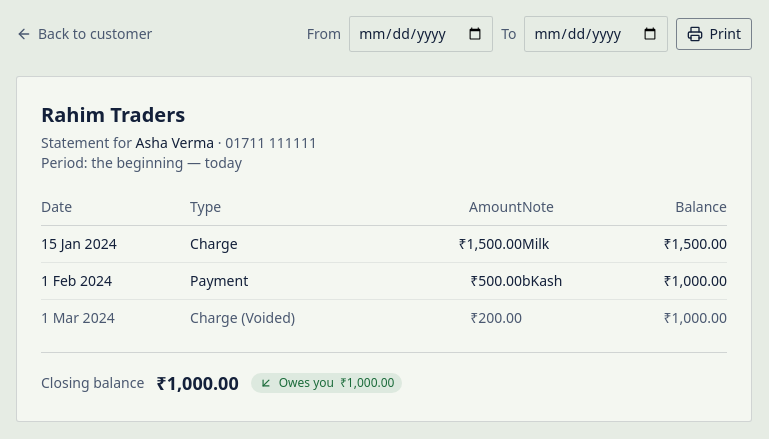
Test: StatementPage (S-39) › says so when the period has no entries, keeping a closing balance
The image size is (769, 439).
expect the heading "Rahim Traders" is shown: met, box [41, 101, 185, 128]
Type "2030-01-01" into the date field labelled "From". click: (421, 34)
box: [349, 16, 493, 52]
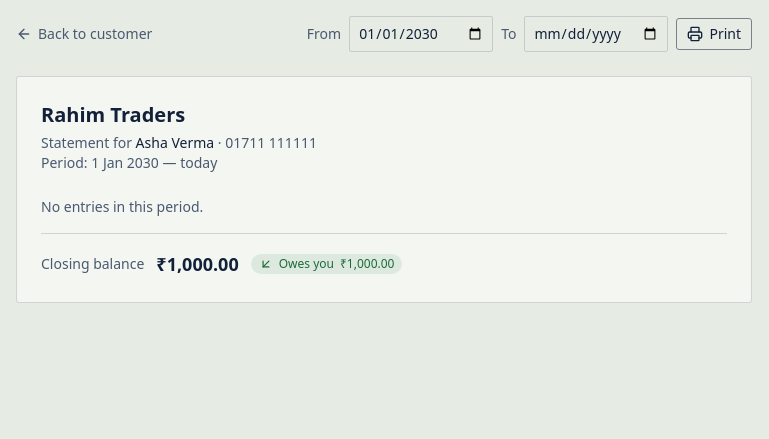
expect the text "Closing balance" is shown: met, box [41, 254, 144, 274]
expect the text "No entries in this period." is shown: met, box [41, 197, 203, 216]
